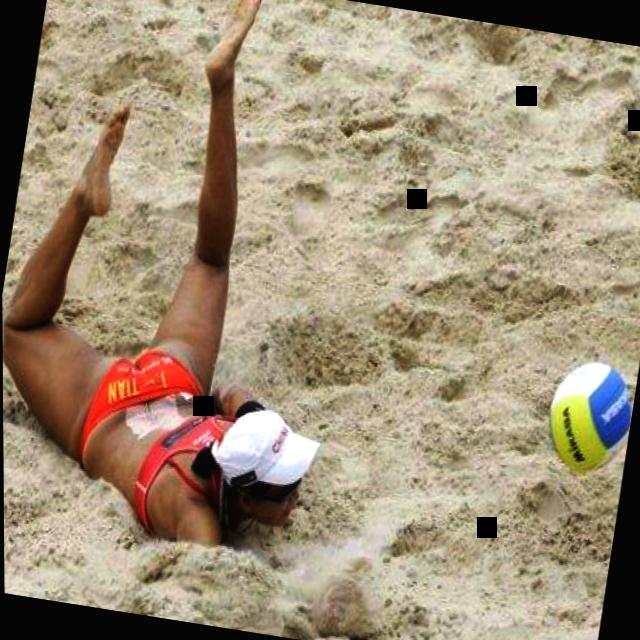Fall-Detected: (0, 0, 407, 563)
